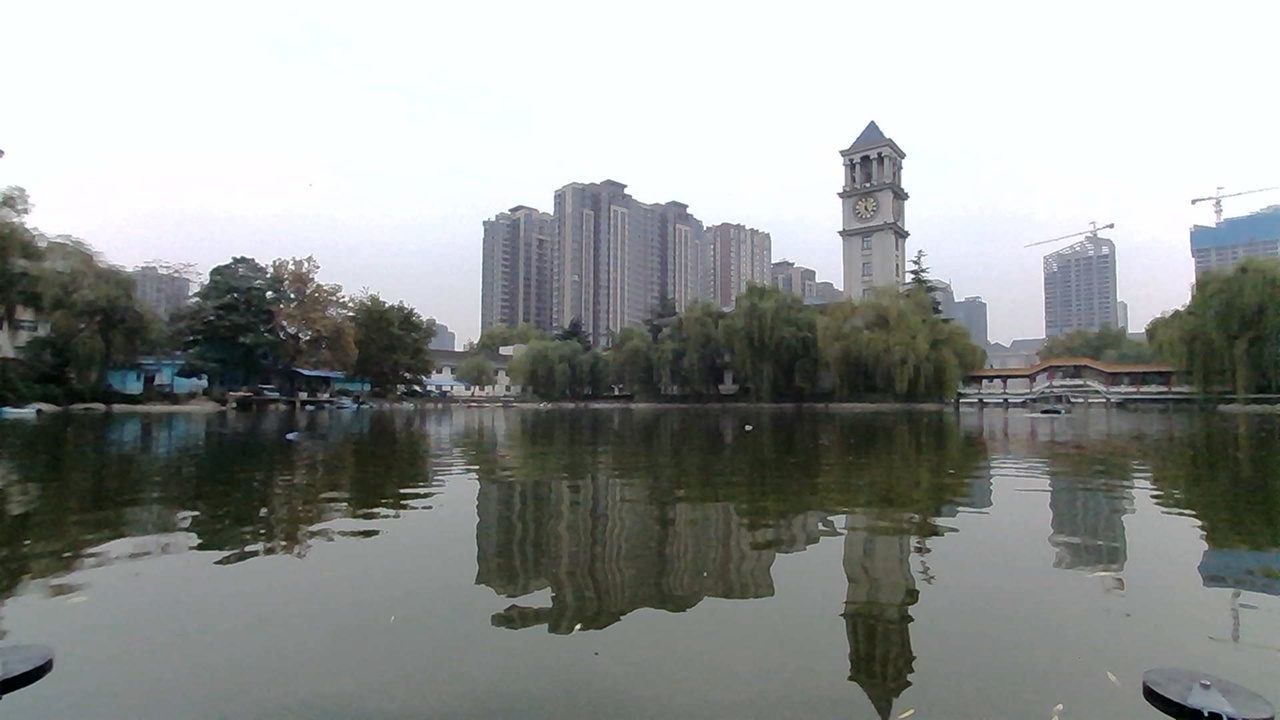bottle: (282, 418, 324, 448), (736, 420, 773, 443)
